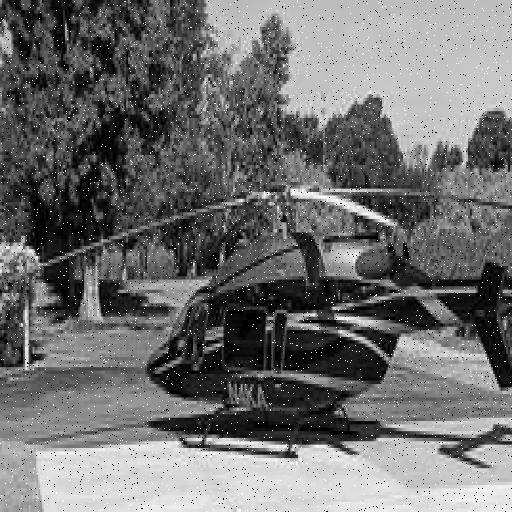helicopter: (62, 112, 512, 473)
